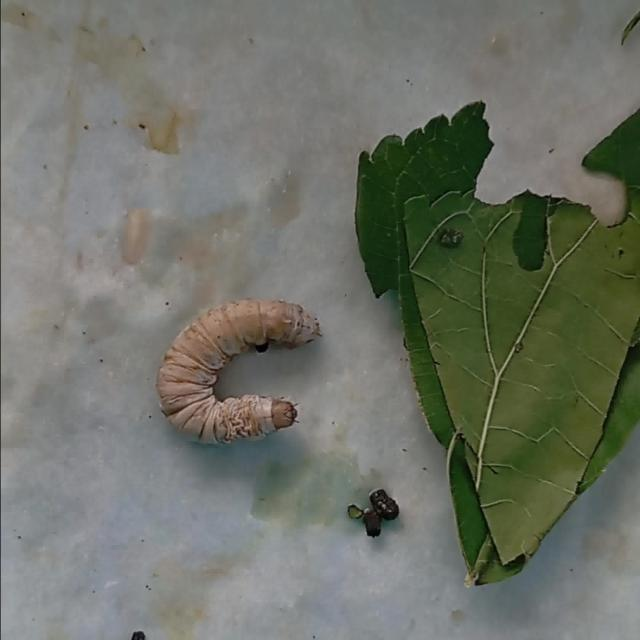Grasserie: (134, 270, 372, 461)
